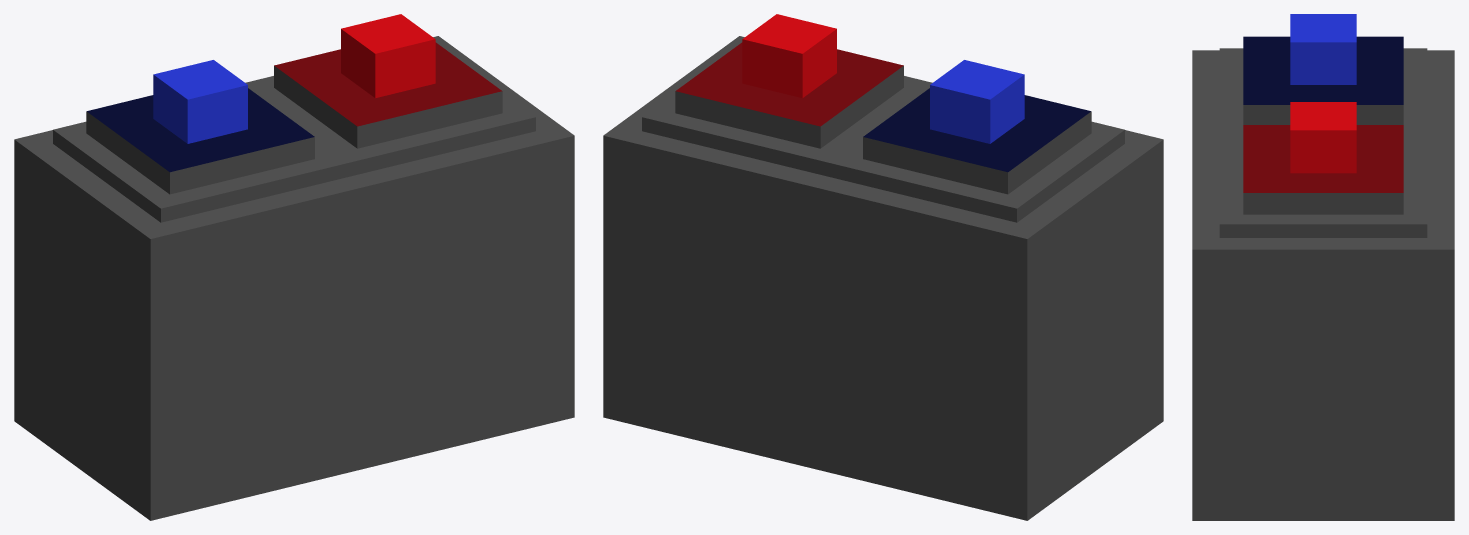
Rendered from Power.fbx.
3 views of the same model, side by side, from view 1: azimuth 30°, elevation 25°; view 2: azimuth 150°, elevation 25°; view 3: azimuth 270°, elevation 25° (orthographic). The views are drawn at different scales.
Visible parts, largest first — view 1: Cube; view 2: Cube; view 3: Cube.
Boxes of the visible parts, bbox=[...] form: Cube: bbox=[14, 14, 574, 520]; Cube: bbox=[603, 14, 1163, 520]; Cube: bbox=[1192, 14, 1454, 520].
Bounding box in the file's own units: 200 × 163 × 111.
